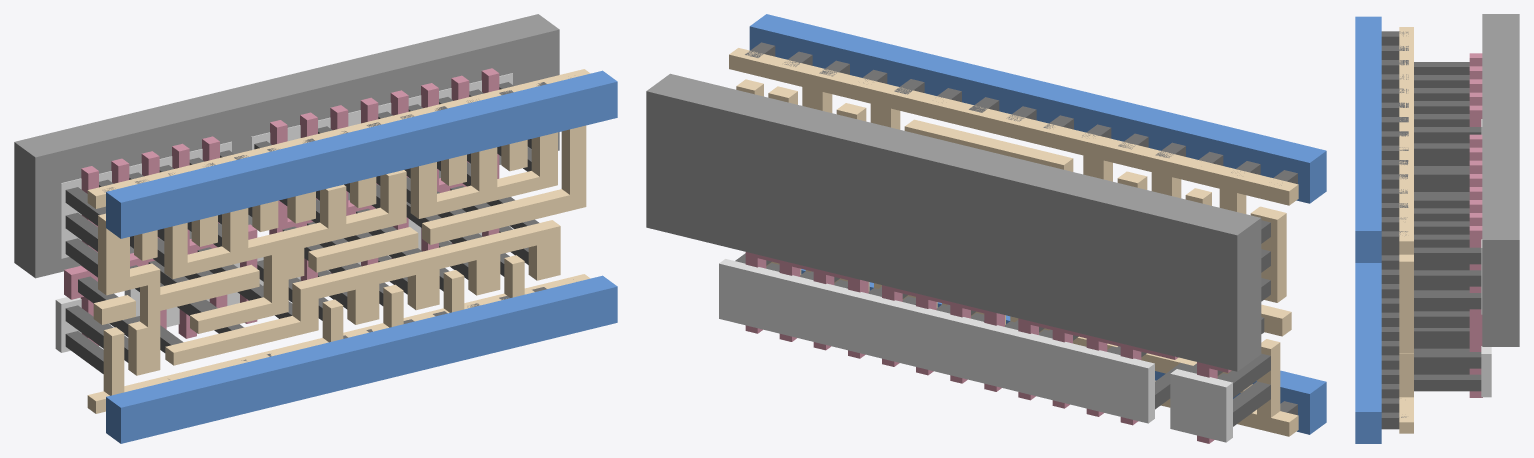
Rendered from sky130_fd_sc_hd__o21bai_4.gds.gltf.
3 renders of one model, left to right at view 1: azimuth 30°, elevation 25°; view 2: azimuth 150°, elevation 25°; view 3: azimuth 270°, elevation 25°, orthographic. The views are drawn at different scales.
Parts seen in each view (by area): view 1: sky130_fd_sc_hd__o21bai_4_li1, sky130_fd_sc_hd__o21bai_4_met1, sky130_fd_sc_hd__o21bai_4_nwell, sky130_fd_sc_hd__o21bai_4_licon, sky130_fd_sc_hd__o21bai_4_poly, sky130_fd_sc_hd__o21bai_4_diff, sky130_fd_sc_hd__o21bai_4_mcon; view 2: sky130_fd_sc_hd__o21bai_4_nwell, sky130_fd_sc_hd__o21bai_4_diff, sky130_fd_sc_hd__o21bai_4_li1, sky130_fd_sc_hd__o21bai_4_met1, sky130_fd_sc_hd__o21bai_4_poly, sky130_fd_sc_hd__o21bai_4_licon, sky130_fd_sc_hd__o21bai_4_mcon; view 3: sky130_fd_sc_hd__o21bai_4_licon, sky130_fd_sc_hd__o21bai_4_nwell, sky130_fd_sc_hd__o21bai_4_met1, sky130_fd_sc_hd__o21bai_4_mcon, sky130_fd_sc_hd__o21bai_4_li1, sky130_fd_sc_hd__o21bai_4_poly, sky130_fd_sc_hd__o21bai_4_diff.
Part boxes in pixels (x1,y1,x2,y2): sky130_fd_sc_hd__o21bai_4_li1: (87, 69, 590, 413); sky130_fd_sc_hd__o21bai_4_met1: (106, 70, 617, 443); sky130_fd_sc_hd__o21bai_4_nwell: (14, 14, 559, 278); sky130_fd_sc_hd__o21bai_4_licon: (65, 82, 538, 373); sky130_fd_sc_hd__o21bai_4_poly: (64, 68, 499, 345); sky130_fd_sc_hd__o21bai_4_diff: (55, 73, 512, 352); sky130_fd_sc_hd__o21bai_4_mcon: (102, 82, 573, 379); sky130_fd_sc_hd__o21bai_4_nwell: (646, 73, 1261, 371); sky130_fd_sc_hd__o21bai_4_diff: (719, 259, 1232, 442); sky130_fd_sc_hd__o21bai_4_li1: (729, 48, 1298, 436); sky130_fd_sc_hd__o21bai_4_met1: (749, 14, 1326, 434); sky130_fd_sc_hd__o21bai_4_poly: (745, 252, 1231, 443); sky130_fd_sc_hd__o21bai_4_licon: (735, 220, 1270, 426); sky130_fd_sc_hd__o21bai_4_mcon: (745, 42, 1297, 415); sky130_fd_sc_hd__o21bai_4_licon: (1414, 62, 1481, 391); sky130_fd_sc_hd__o21bai_4_nwell: (1482, 14, 1519, 346); sky130_fd_sc_hd__o21bai_4_met1: (1355, 16, 1381, 443); sky130_fd_sc_hd__o21bai_4_mcon: (1381, 31, 1408, 429); sky130_fd_sc_hd__o21bai_4_li1: (1399, 27, 1413, 433); sky130_fd_sc_hd__o21bai_4_poly: (1469, 53, 1482, 397); sky130_fd_sc_hd__o21bai_4_diff: (1481, 119, 1491, 397).
Bounding box in the file's own units: 7.28 × 3.2 × 2.24.
